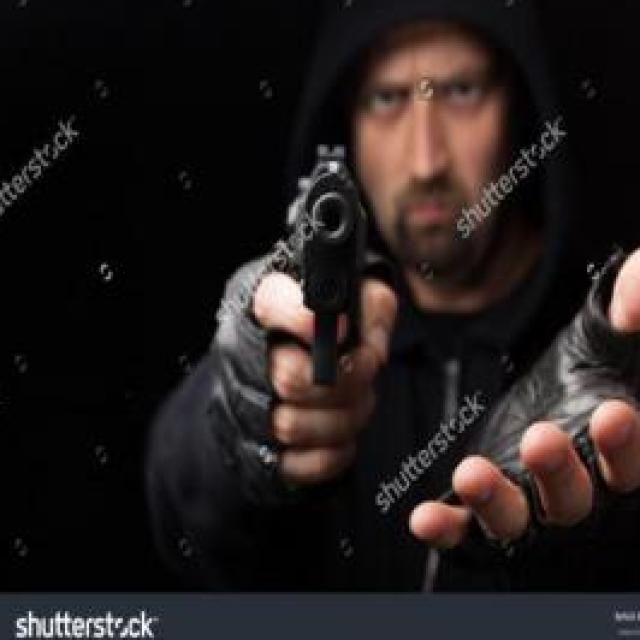pistol: (286, 144, 382, 388)
